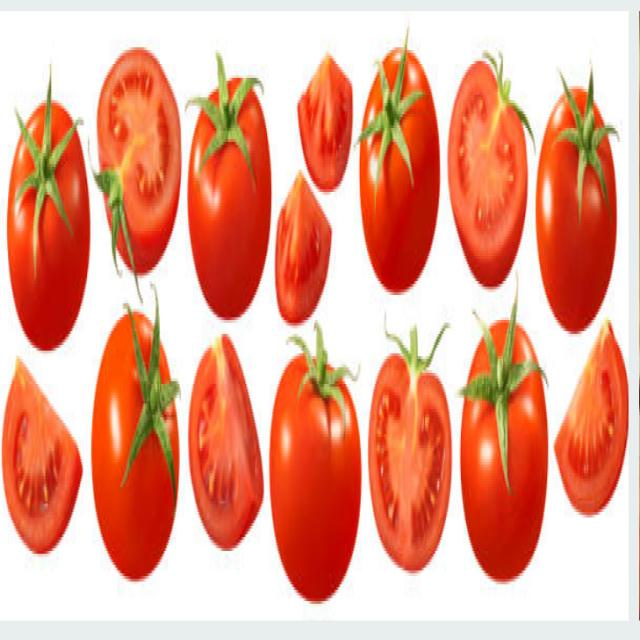Tomato: (456, 274, 552, 610), (258, 322, 364, 602), (186, 54, 285, 331), (364, 314, 459, 597), (96, 288, 185, 581), (432, 38, 529, 290), (93, 37, 187, 286), (360, 46, 441, 314), (8, 81, 91, 340), (534, 63, 614, 328), (563, 292, 627, 549), (7, 357, 78, 581), (295, 32, 360, 192), (274, 169, 332, 326)
